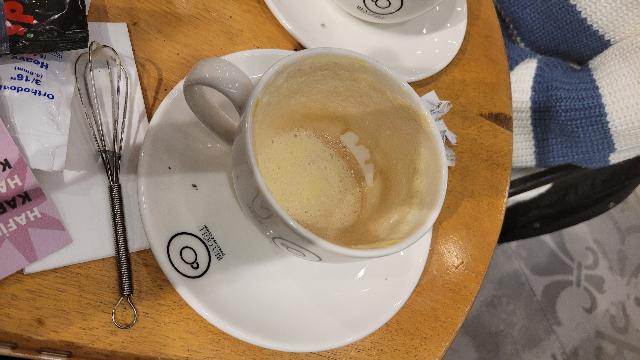Cam: (146, 32, 448, 344)
Metal: (70, 46, 146, 334)
Plastik: (0, 51, 72, 176)
